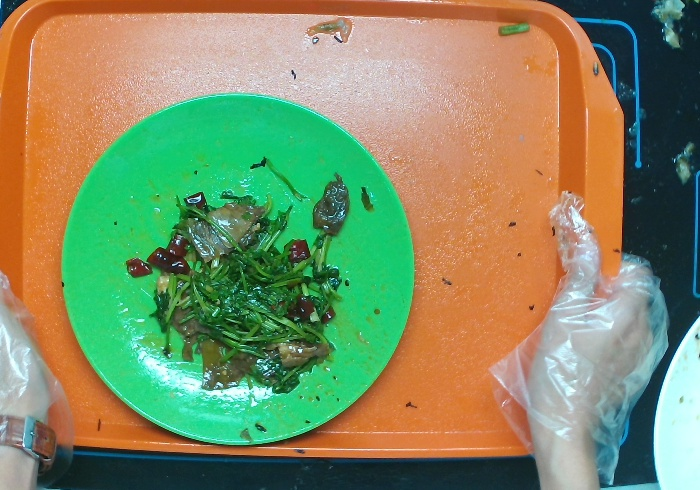HZYJPL-Lv_Se_Yuan_Pan: (61, 95, 415, 448)
